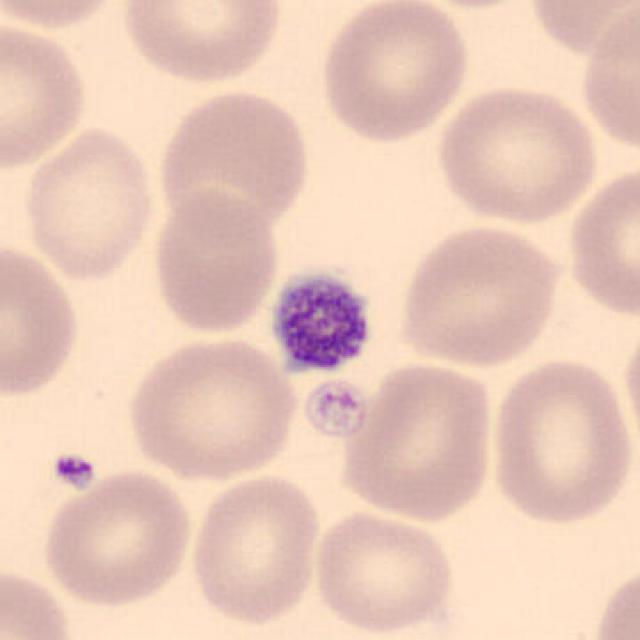Platelets: (267, 266, 377, 379), (301, 376, 374, 442), (48, 448, 98, 492)
RBC: (334, 358, 500, 525), (121, 333, 302, 483), (486, 353, 636, 529), (393, 220, 569, 370), (153, 84, 315, 240), (432, 81, 603, 228), (314, 0, 474, 146), (18, 123, 160, 284), (38, 466, 196, 608), (185, 470, 323, 628), (147, 185, 281, 337), (309, 506, 459, 636), (0, 14, 94, 175), (117, 0, 287, 86), (0, 236, 84, 400), (562, 158, 640, 322), (576, 0, 638, 159), (522, 0, 638, 56), (0, 562, 80, 640), (588, 557, 638, 640), (2, 0, 130, 32), (620, 317, 640, 453), (396, 0, 542, 12)
